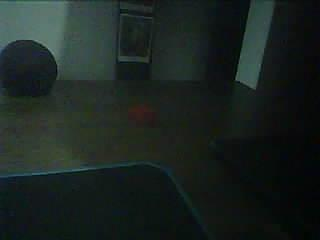lego: (127, 104, 158, 127)
